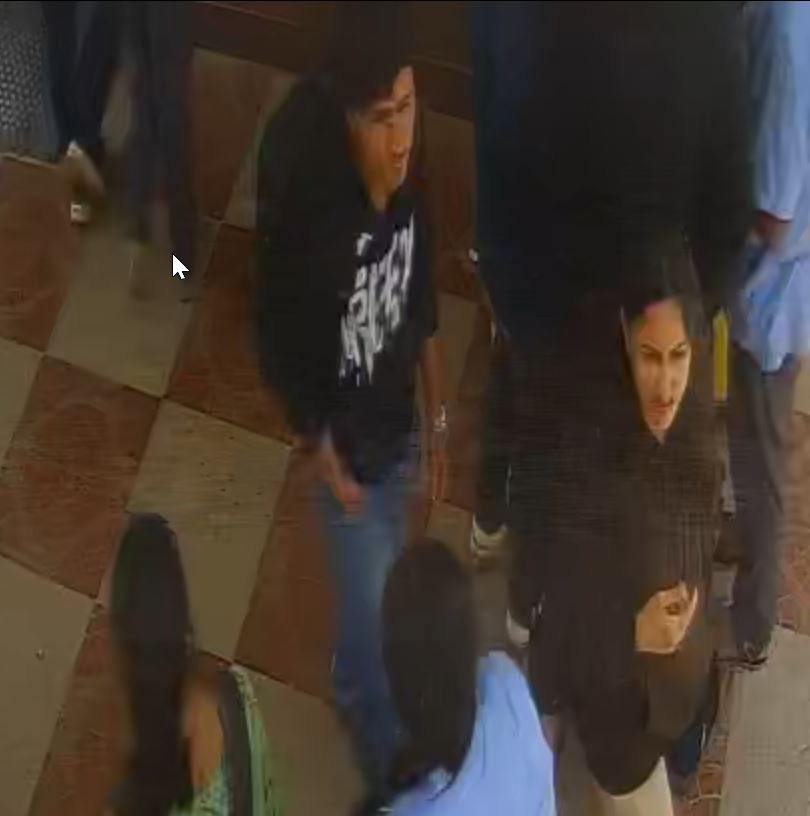intruder: (254, 22, 448, 702), (542, 218, 738, 812)
